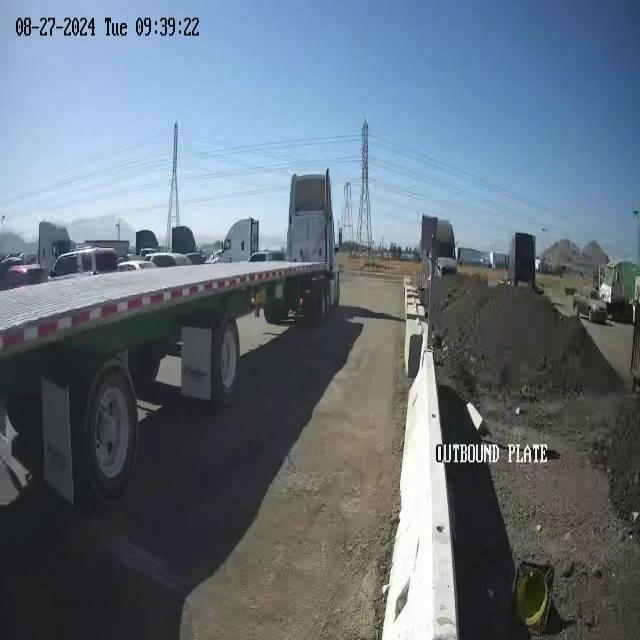BOBTAIL: (1, 166, 341, 511)
